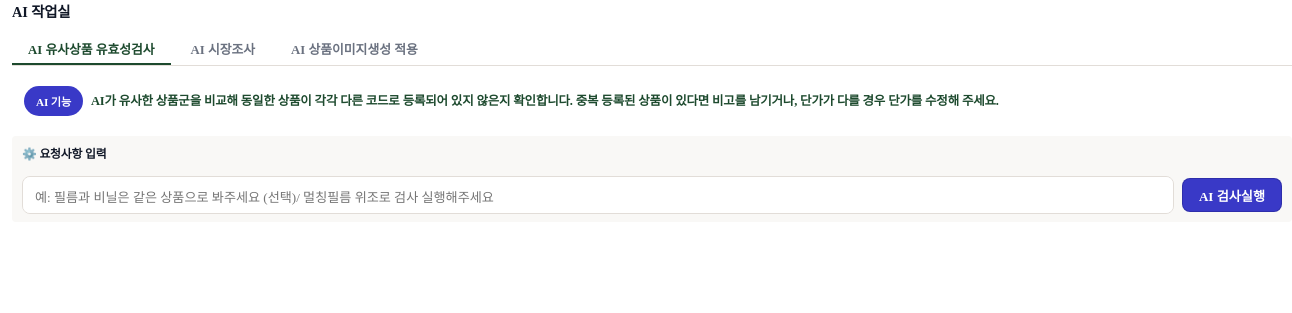
Test: WorkbookAiRecommendationPanel › shows a loading message while the market research query is running
Click the tab "AI 시장조사". click: (223,50)
box: [175, 34, 271, 65]
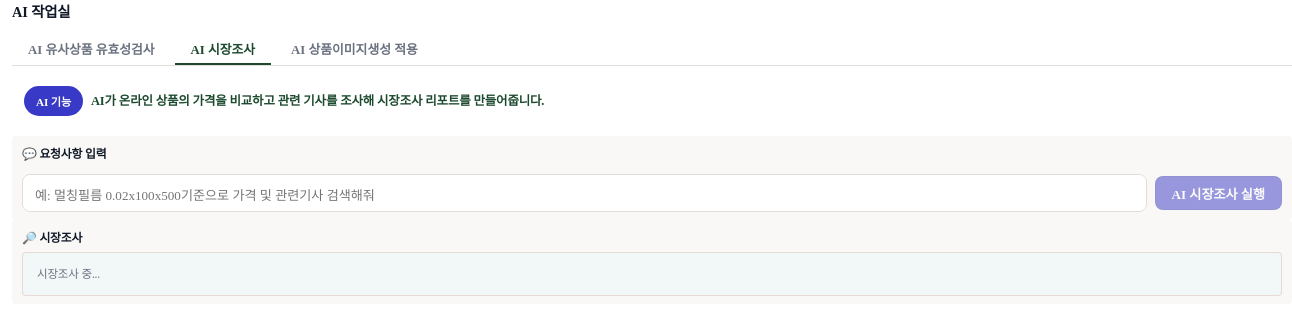
expect the text "시장조사 중..." is shown: met, box [37, 268, 100, 280]
